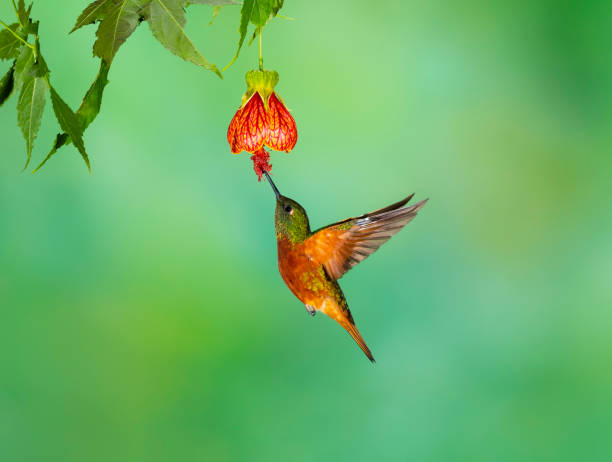Bird: (259, 166, 430, 370)
